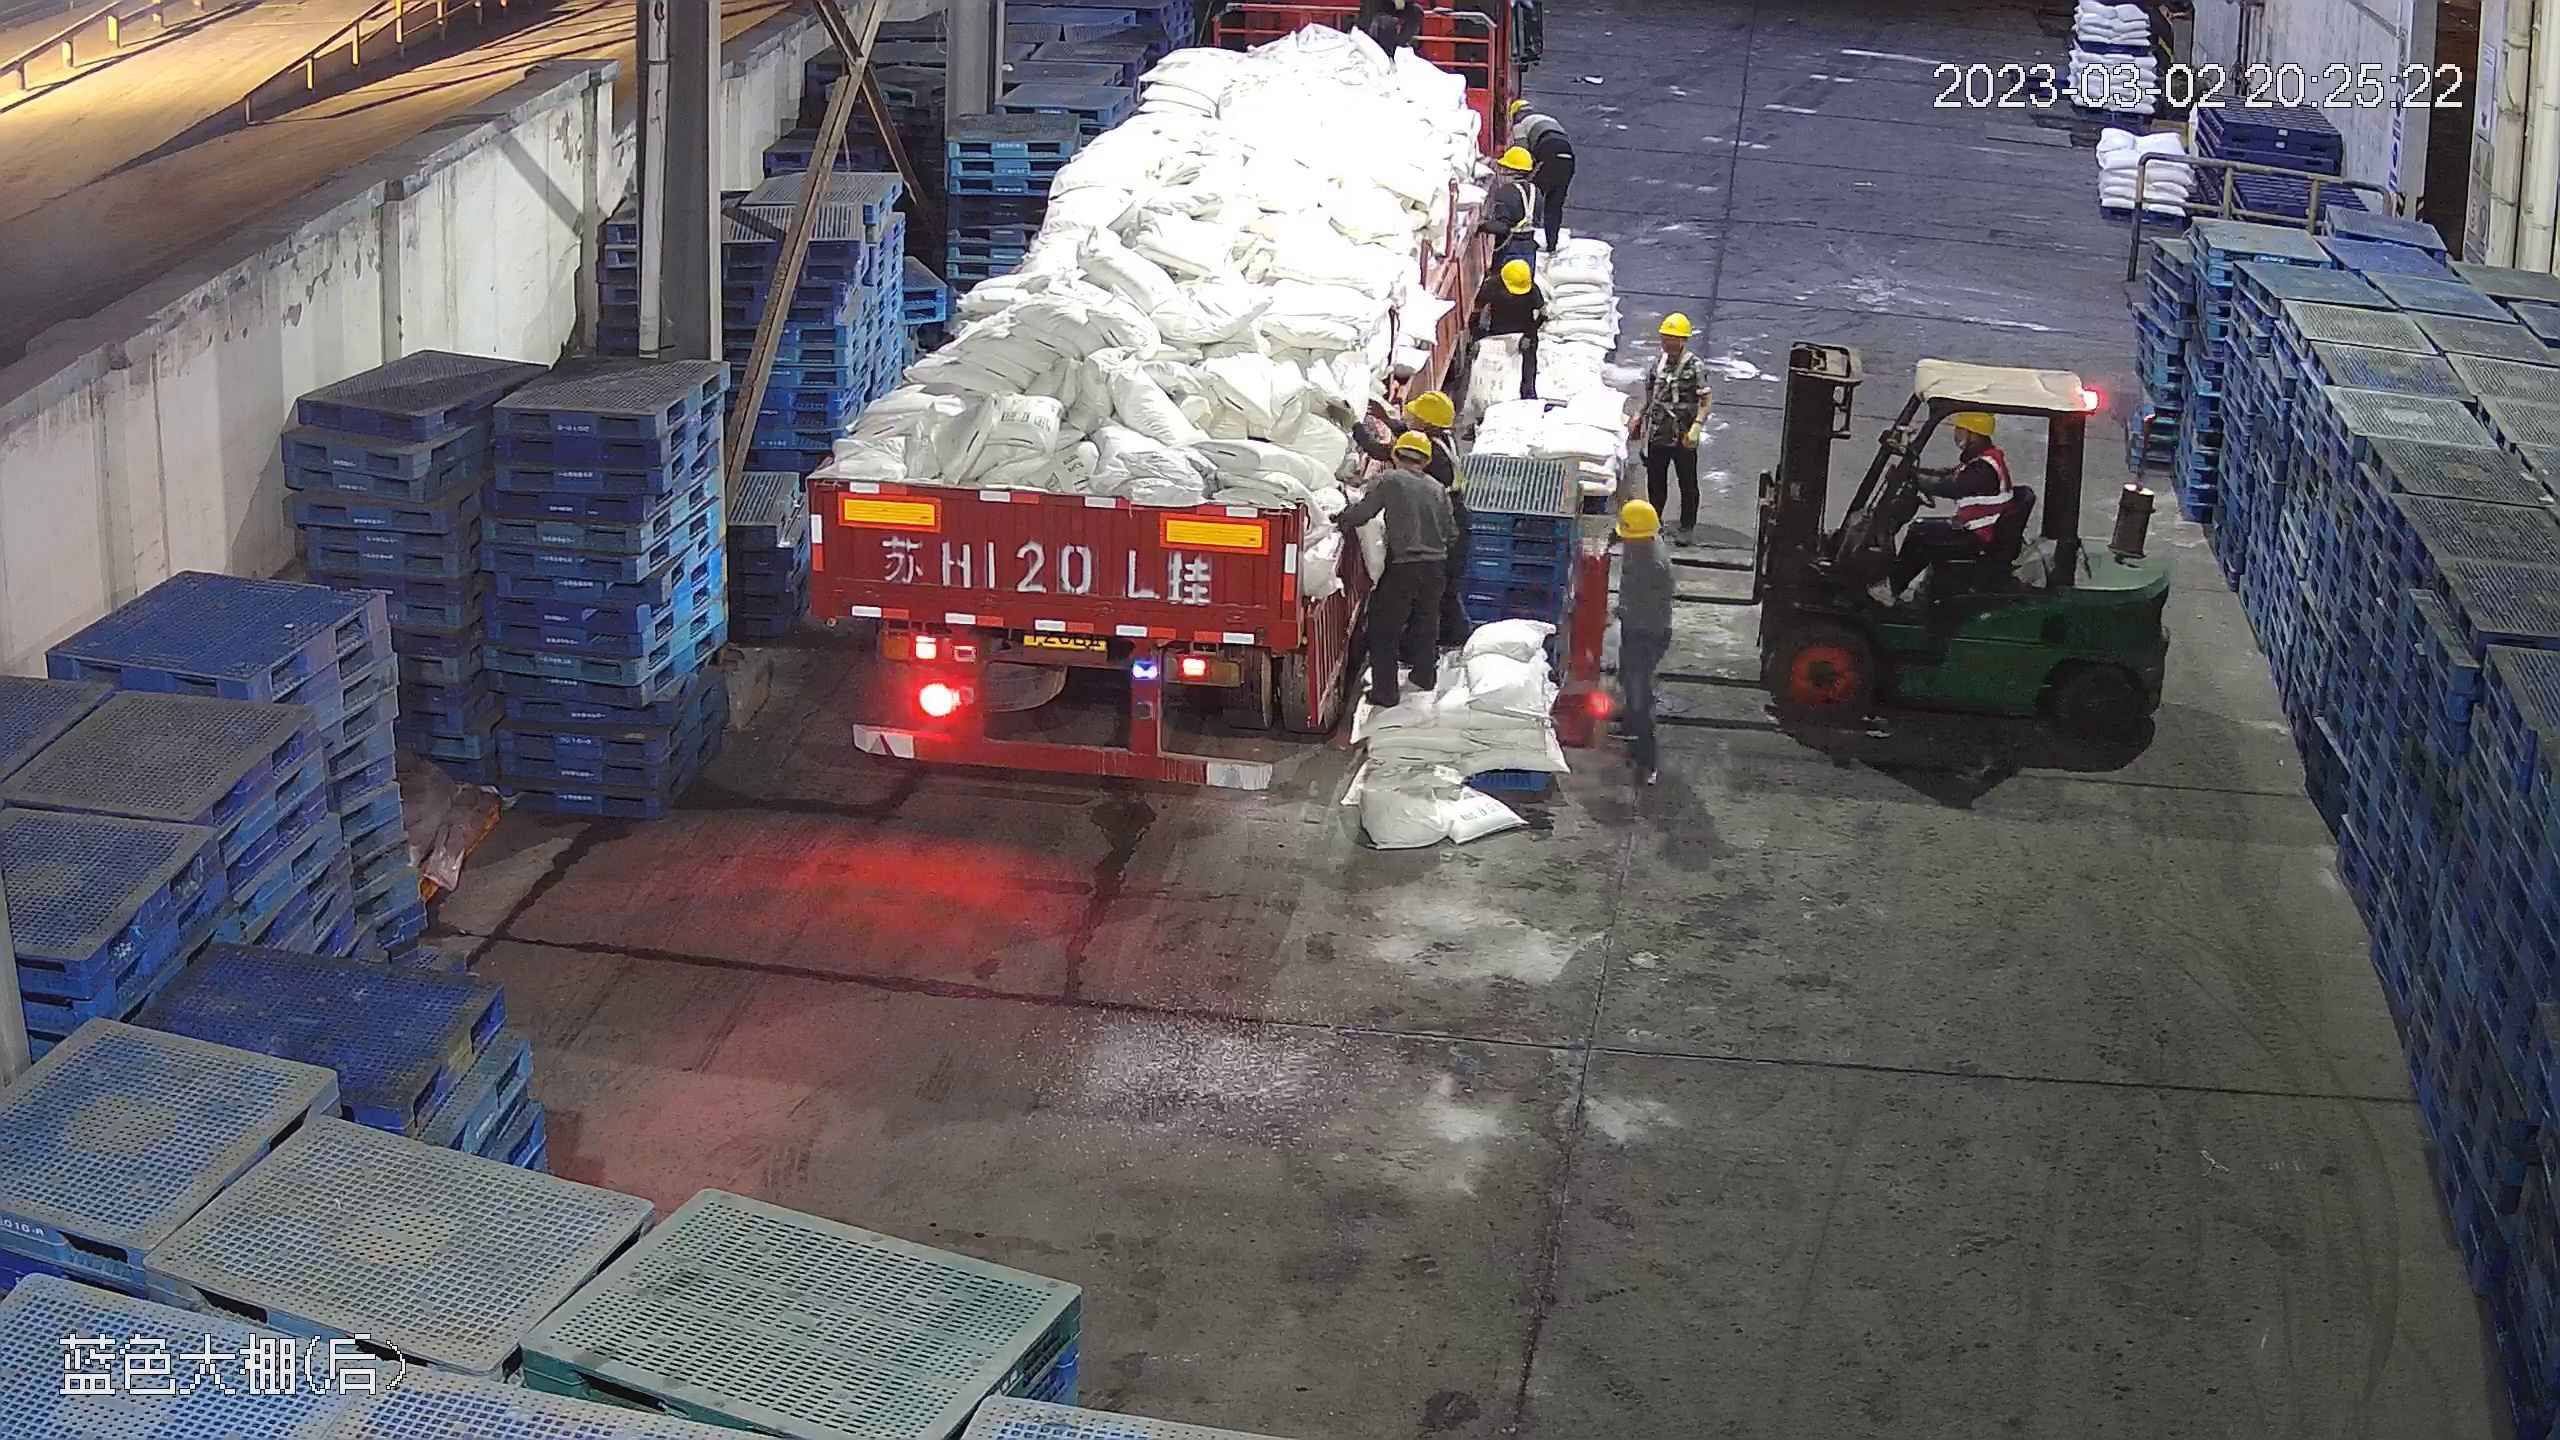belt: (1656, 357, 1707, 414), (1429, 434, 1469, 493), (1507, 183, 1547, 236)
head: (1358, 423, 1453, 512), (1603, 495, 1681, 594), (1943, 407, 2012, 495), (1640, 310, 1706, 387), (1486, 147, 1540, 221), (1484, 256, 1541, 314), (1511, 95, 1562, 146)
helmet: (1502, 97, 1557, 133), (1612, 495, 1662, 536), (1411, 386, 1459, 428), (1497, 256, 1536, 298), (1495, 142, 1535, 175), (1948, 408, 1994, 436), (1656, 310, 1693, 337)
people: (1324, 410, 1462, 735), (1871, 406, 2019, 615), (1595, 492, 1678, 797), (1625, 309, 1709, 533), (1466, 257, 1547, 401), (1498, 115, 1570, 256)
truck: (792, 9, 1551, 804)
